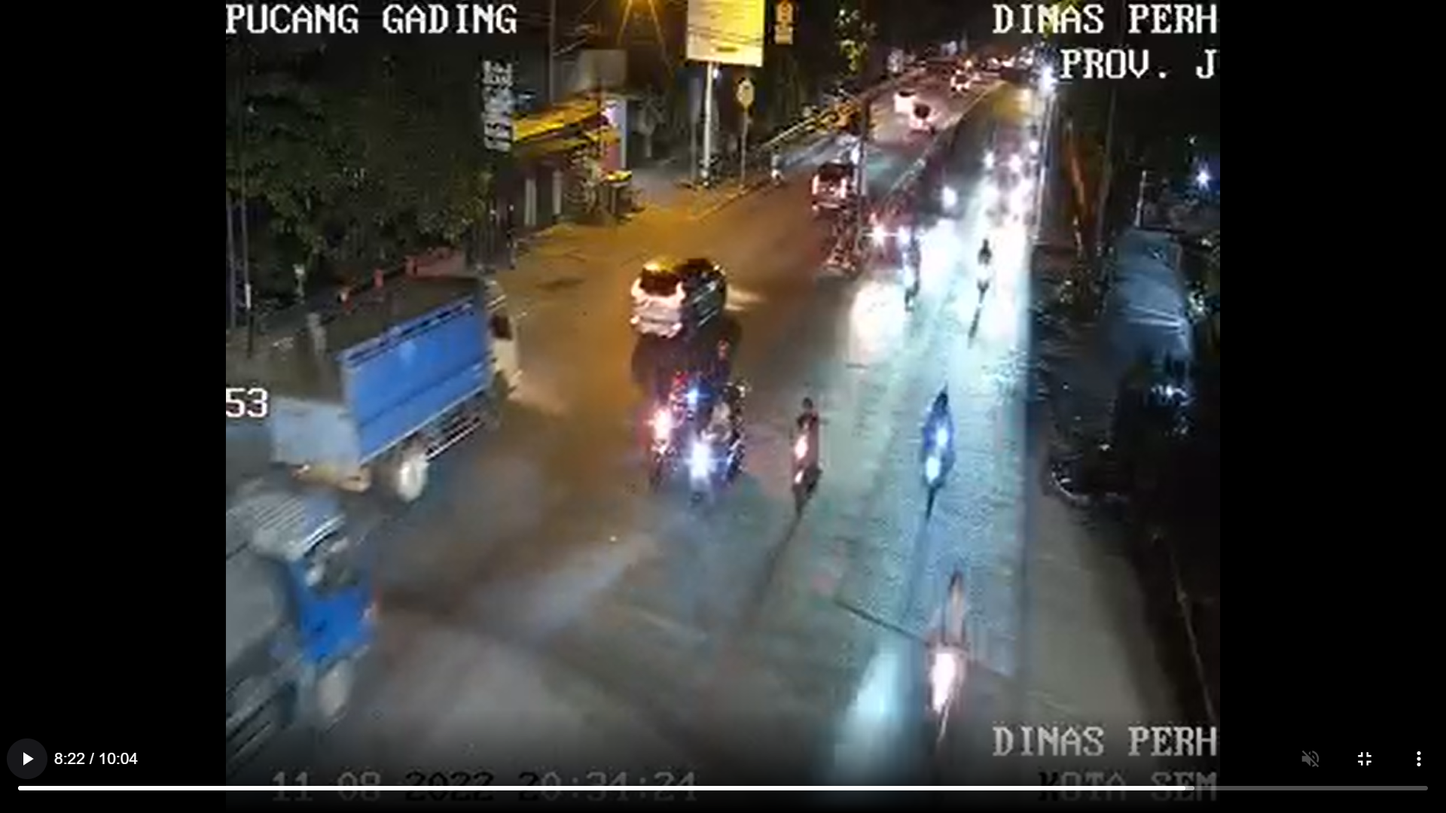without_helmet: (761, 373, 846, 517)
